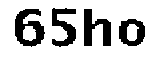5: (47, 6, 80, 50)
6: (9, 6, 47, 49)
h: (82, 6, 114, 54)
o: (117, 16, 150, 50)
